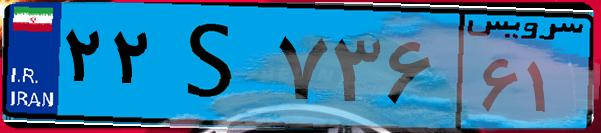1: (525, 38, 570, 115)
2: (57, 26, 110, 100), (110, 28, 158, 98)
3: (330, 28, 385, 110)
6: (385, 28, 445, 110), (475, 38, 525, 113)
7: (270, 28, 330, 110)
S: (158, 12, 270, 120)
